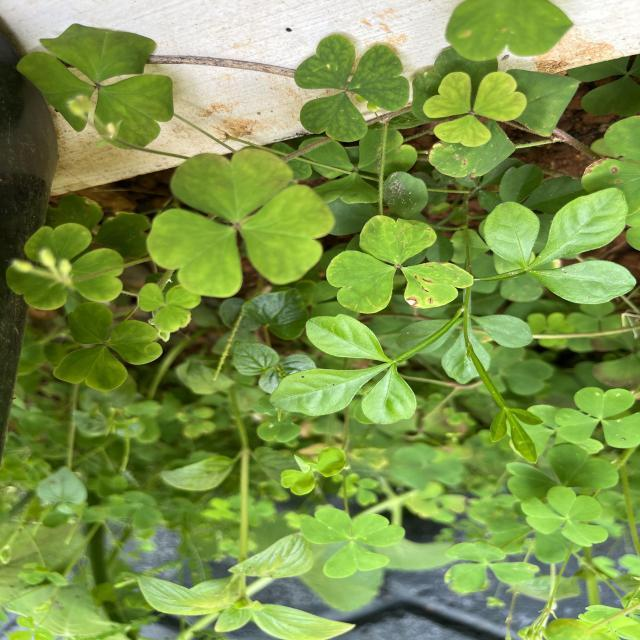Oxalis corniculata: (145, 146, 336, 300), (15, 22, 175, 150), (325, 215, 474, 314), (294, 33, 411, 144), (52, 300, 164, 392), (422, 70, 528, 148), (299, 506, 406, 580), (553, 386, 640, 449), (520, 485, 608, 547), (444, 540, 540, 594), (137, 282, 202, 332)
